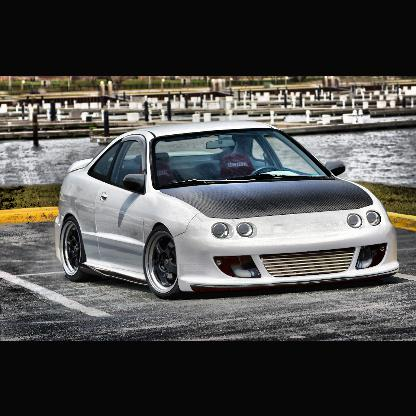Acura Integra Type R 2001: (55, 120, 401, 297)
